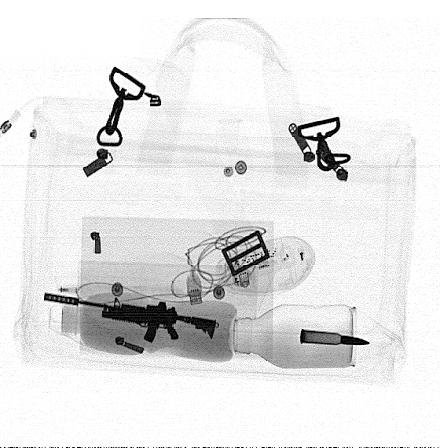Bullet: (300, 328, 370, 345)
Gun: (44, 291, 219, 344)
